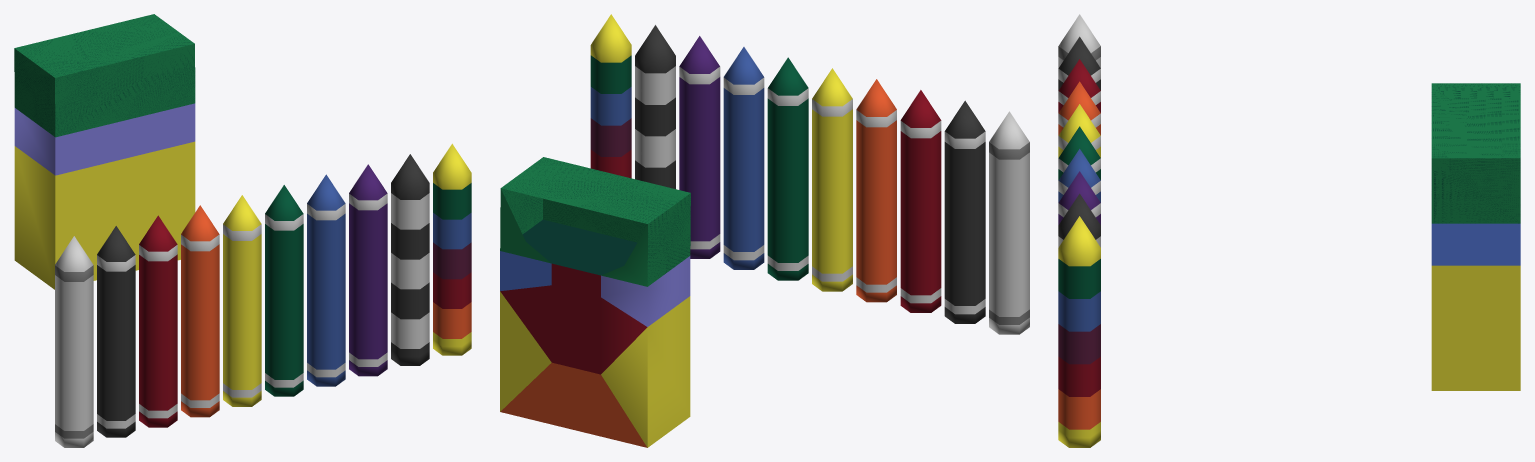
Rendered from Crayons.fbx.
The picture shows the model from 3 angles, left to right: view 1: azimuth 30°, elevation 25°; view 2: azimuth 150°, elevation 25°; view 3: azimuth 270°, elevation 25°; orthographic projection. The views are drawn at different scales.
Visible parts, largest first — view 1: CrayonBox, CrayonPurple, CrayonOrange, CrayonRed, CrayonBlue, CrayonClown, CrayonGreen, CrayonBlack, CrayonWhite, CrayonYellow, CrayonMime; view 2: CrayonBox, CrayonGreen, CrayonBlack, CrayonBlue, CrayonRed, CrayonOrange, CrayonWhite, CrayonYellow, CrayonPurple, CrayonClown, CrayonMime; view 3: CrayonBox, CrayonClown, CrayonBlack, CrayonMime, CrayonPurple, CrayonWhite, CrayonRed, CrayonBlue, CrayonOrange, CrayonGreen, CrayonYellow.
Boxes of the visible parts, x1,y1,x2,y2 form: CrayonBox: (14,14,195,289); CrayonPurple: (349,164,387,376); CrayonOrange: (181,205,219,417); CrayonRed: (139,215,177,427); CrayonBlue: (307,174,345,386); CrayonClown: (433,143,471,355); CrayonGreen: (265,185,303,396); CrayonBlack: (97,226,135,437); CrayonWhite: (55,236,93,447); CrayonYellow: (223,195,261,406); CrayonMime: (391,154,429,365); CrayonBox: (500,157,690,447); CrayonGreen: (767,57,808,280); CrayonBlack: (944,100,985,323); CrayonBlue: (723,47,764,269); CrayonRed: (900,90,941,312); CrayonOrange: (856,79,896,302); CrayonWhite: (989,111,1029,334); CrayonYellow: (812,68,852,291); CrayonPurple: (679,36,720,258); CrayonClown: (590,14,631,178); CrayonMime: (635,25,675,188); CrayonBox: (1431,83,1520,390); CrayonClown: (1058,216,1100,447); CrayonBlack: (1058,36,1100,90); CrayonMime: (1058,193,1100,247); CrayonPurple: (1058,171,1100,224); CrayonWhite: (1058,14,1100,67); CrayonRed: (1058,59,1100,112); CrayonBlue: (1058,149,1100,202); CrayonOrange: (1058,81,1100,135); CrayonGreen: (1058,126,1100,180); CrayonYellow: (1058,104,1100,157).
Bounding box in the file's own units: 0.727 × 0.3627 × 0.6531.
